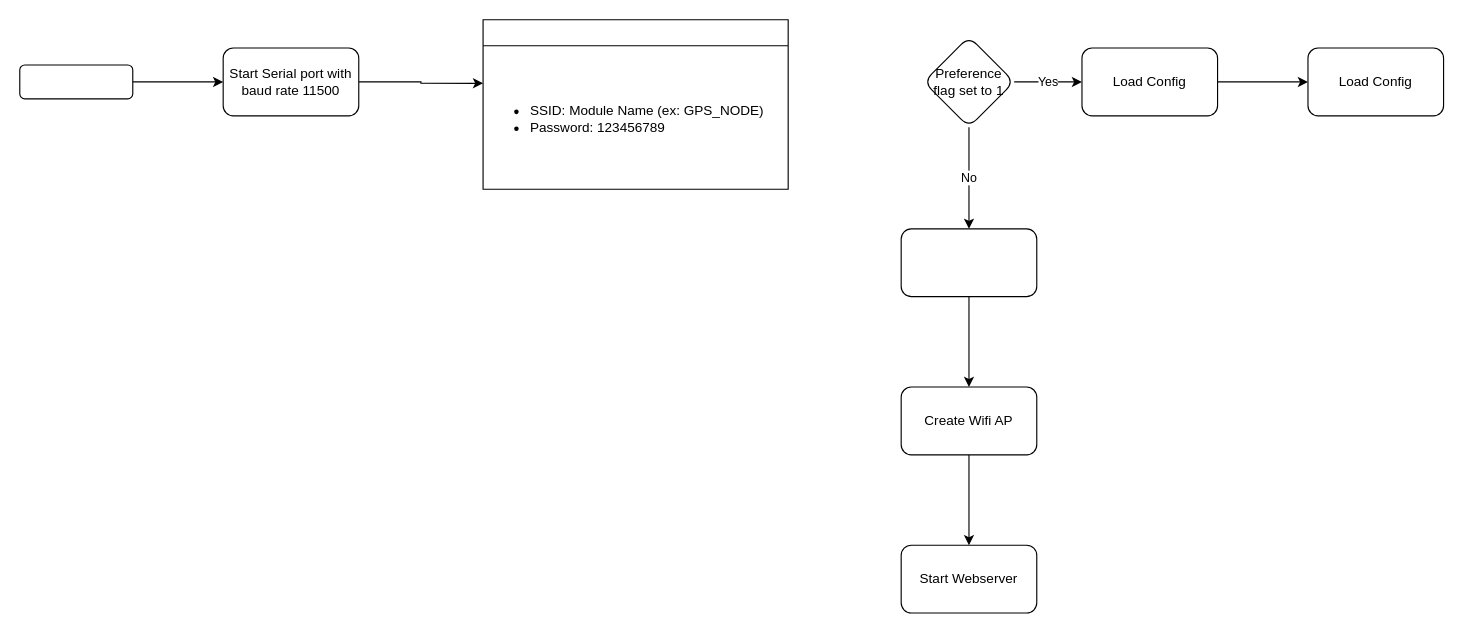
The diagram is 1463 pixels wide and 633 high, and some of its shapes have lost their labels. Each missing label, with the box of its shape:
Boot: (19, 64, 133, 99)
Load Default: (900, 228, 1037, 297)
Start Wifi AP: (482, 19, 788, 189)
